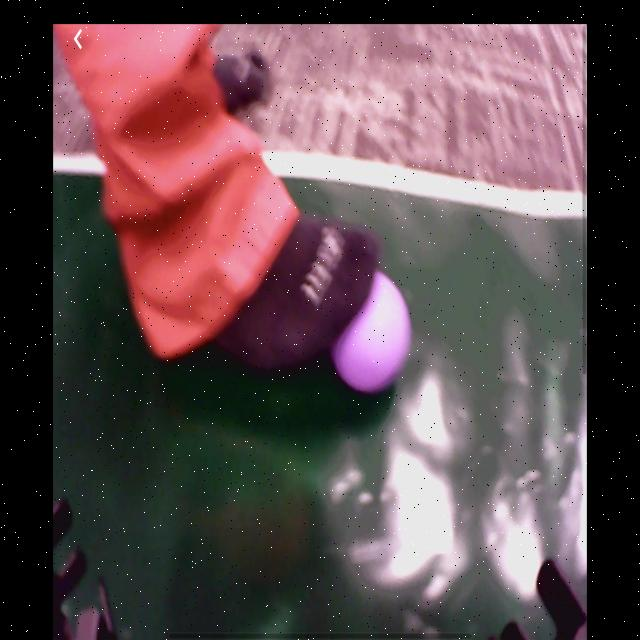ball: (336, 270, 412, 392)
